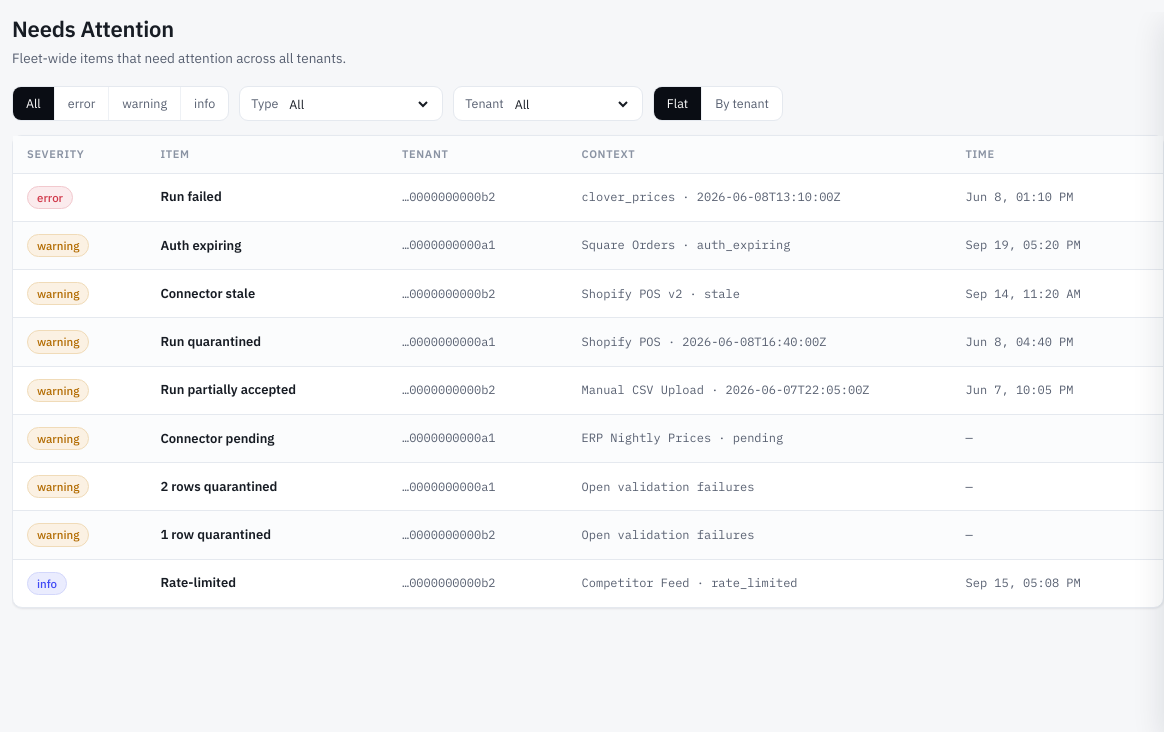
Test: Needs attention — PLATFORM (fixture mode): filterable triage › no-match filter combination → honest empty state
Expected: the heading "Needs Attention" is shown, x1=12 y1=14 x2=174 y2=43
Click the button "info" at (205, 104), box x1=181 y1=87 x2=228 y2=120
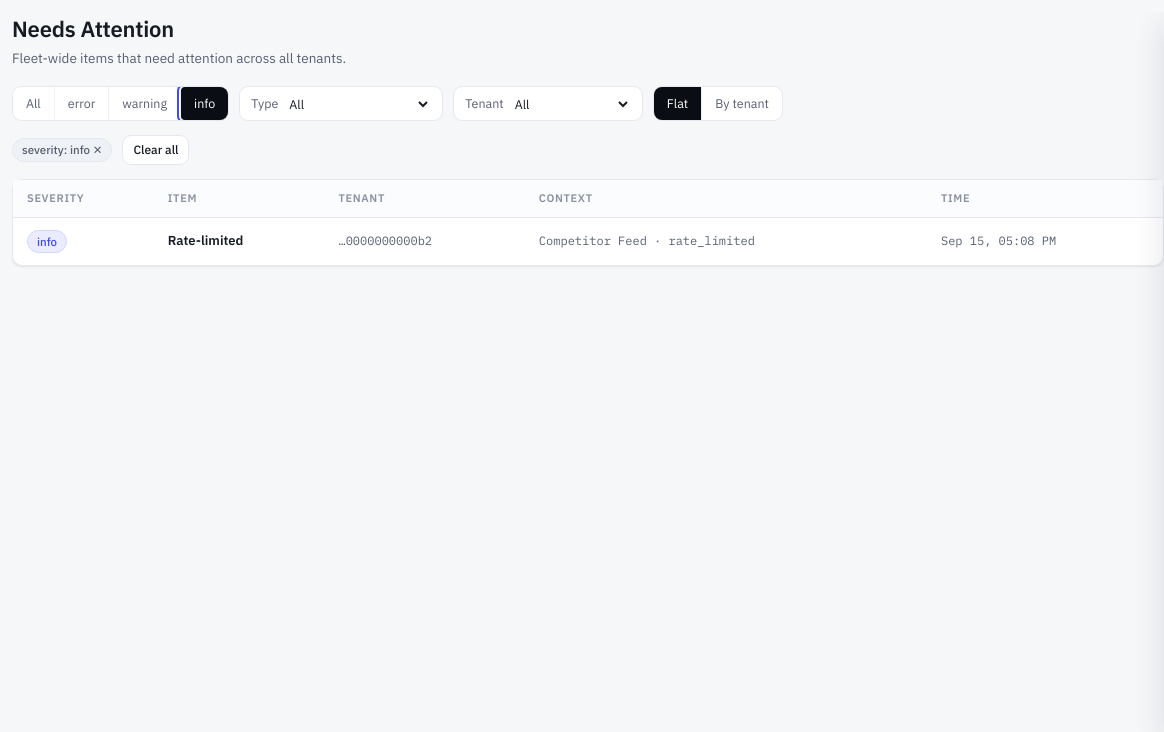
Select "…0000000000a1" in the dropdown labelled "Tenant" at (571, 104), box x1=511 y1=95 x2=631 y2=113
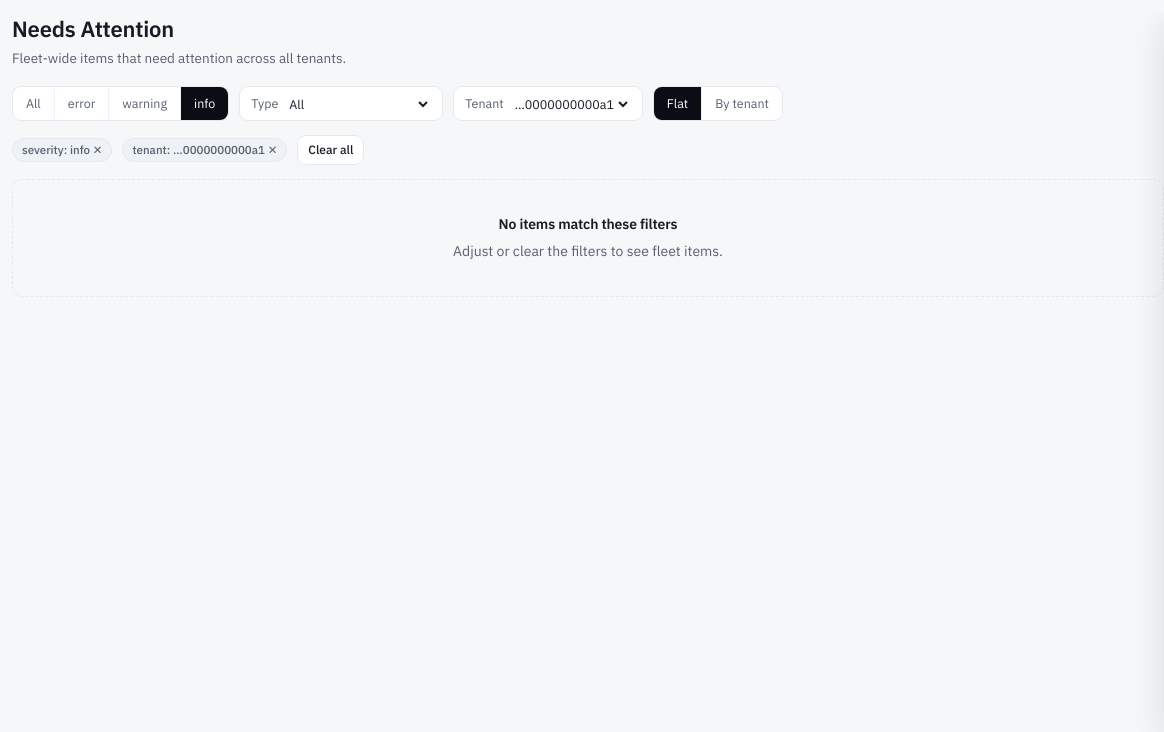
Now the heading "No items match these filters" is shown, box x1=499 y1=215 x2=677 y2=233
Now the table is gone
